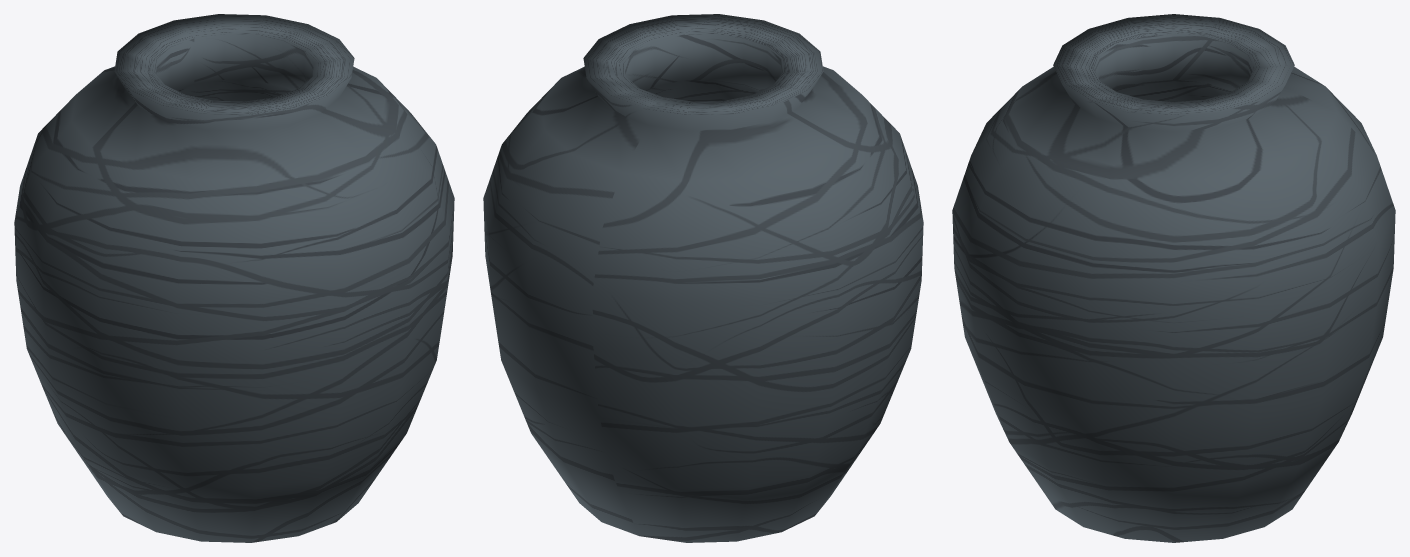
The model's file is Pot.fbx.
The picture shows the model from 3 angles, left to right: view 1: azimuth 30°, elevation 25°; view 2: azimuth 150°, elevation 25°; view 3: azimuth 270°, elevation 25°; orthographic projection.
Visible parts, largest first — view 1: Cylinder; view 2: Cylinder; view 3: Cylinder.
Part boxes in pixels (left/top/right/bottom): Cylinder: left=14, top=14, right=454, bottom=542; Cylinder: left=483, top=14, right=923, bottom=542; Cylinder: left=952, top=14, right=1395, bottom=542.
Size of the model in its own units: 18.95 by 19.99 by 18.95.
1 material, 1 textured.
